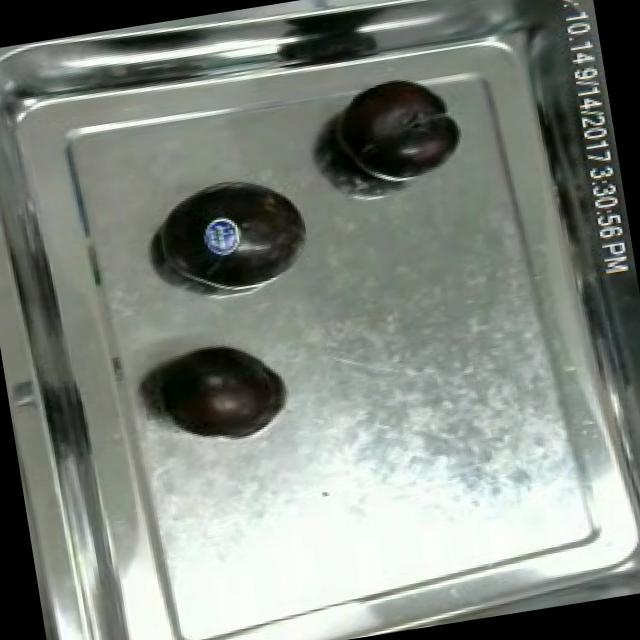Fruit: (323, 68, 470, 191), (154, 329, 292, 449), (186, 168, 322, 288), (196, 206, 256, 264)
